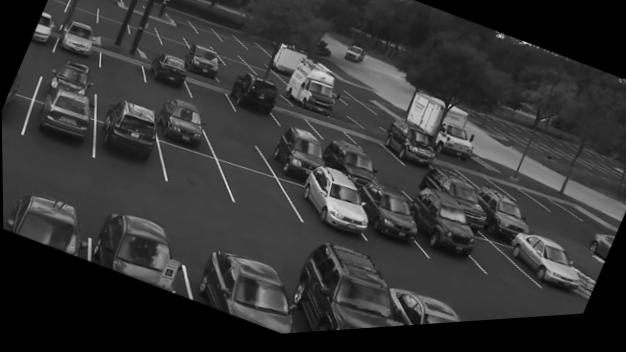empty: (230, 165, 303, 225), (158, 146, 223, 197), (473, 245, 535, 297), (210, 125, 260, 168), (98, 51, 148, 86), (350, 140, 399, 169), (188, 85, 231, 113), (519, 197, 568, 221), (308, 124, 355, 149), (492, 190, 535, 212), (332, 94, 372, 117), (457, 176, 499, 197), (275, 114, 314, 135), (103, 87, 141, 108), (383, 178, 420, 199), (128, 28, 164, 49), (95, 16, 130, 37), (64, 5, 97, 27), (125, 16, 155, 37), (251, 69, 284, 88), (18, 53, 44, 77), (221, 60, 255, 78), (167, 12, 194, 34), (154, 26, 185, 43), (240, 54, 270, 71), (99, 6, 127, 24), (183, 33, 211, 51), (68, 0, 101, 15), (194, 25, 219, 44), (159, 37, 188, 53), (212, 47, 242, 62), (240, 42, 267, 58), (44, 0, 69, 17), (218, 34, 242, 50), (218, 74, 245, 85), (144, 50, 166, 61), (98, 0, 122, 7), (58, 0, 70, 4)
occupied: (289, 246, 396, 336), (94, 204, 189, 302), (196, 251, 297, 338), (292, 171, 364, 239), (7, 189, 78, 257), (410, 194, 475, 260), (509, 241, 578, 299), (355, 186, 417, 249), (101, 100, 154, 167), (37, 84, 90, 146), (382, 125, 442, 178), (284, 63, 335, 121), (319, 144, 377, 193), (421, 175, 482, 220), (387, 292, 455, 331), (271, 131, 323, 179), (479, 193, 526, 246), (227, 77, 277, 123), (156, 102, 203, 150), (148, 56, 186, 93), (184, 46, 223, 82), (46, 64, 89, 94), (60, 22, 93, 58), (588, 243, 614, 270), (31, 13, 52, 44)
